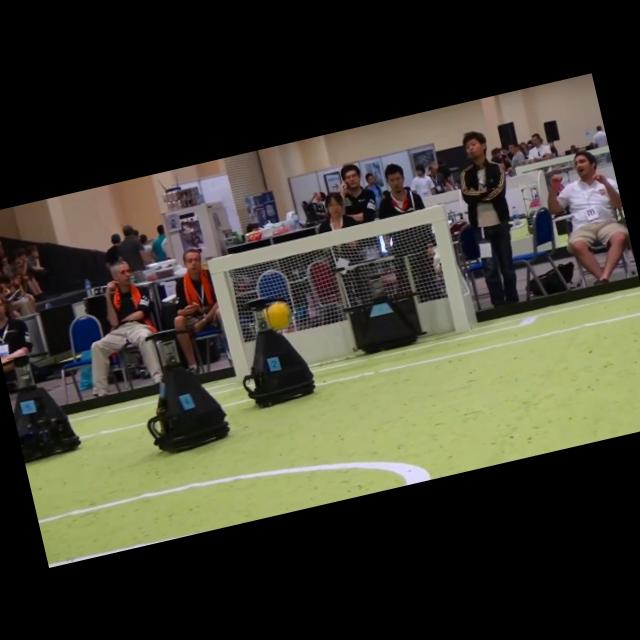ball: (266, 301, 291, 329)
goal: (428, 206, 472, 332), (208, 256, 250, 378)
robot: (146, 331, 229, 452), (242, 297, 315, 407), (13, 355, 80, 461), (347, 274, 422, 353)
